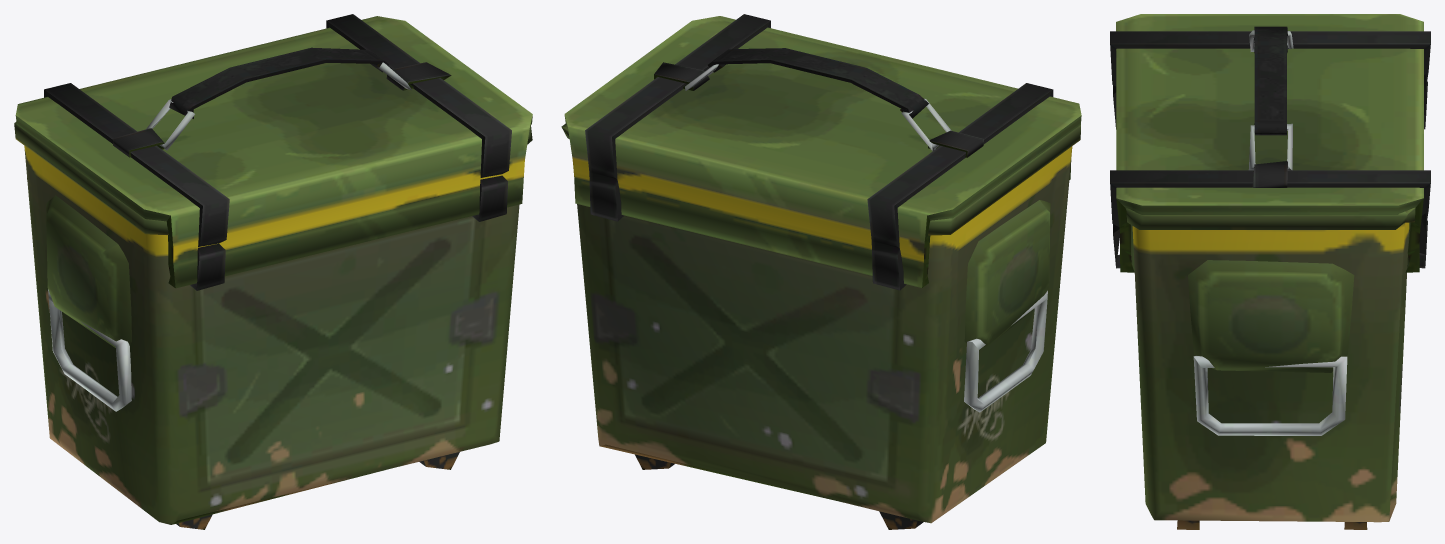
File: ammo_box_-_fortnite.obj
The picture shows the model from 3 angles, left to right: view 1: azimuth 30°, elevation 25°; view 2: azimuth 150°, elevation 25°; view 3: azimuth 270°, elevation 25°; orthographic projection.
Parts seen in each view (by area): view 1: obj1; view 2: obj1; view 3: obj1.
Boxes of the visible parts, bbox=[...] form: obj1: bbox=[14, 14, 532, 529]; obj1: bbox=[561, 14, 1081, 529]; obj1: bbox=[1110, 14, 1430, 529].
Bounding box in the file's own units: 0.5068 × 0.4884 × 0.3493.
Materials: 1 (1 with a texture image).
